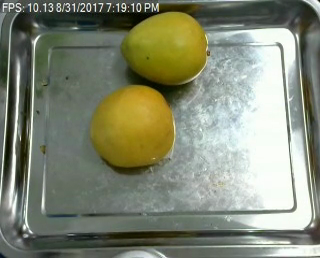Mango: (89, 86, 173, 169), (118, 11, 209, 83)
